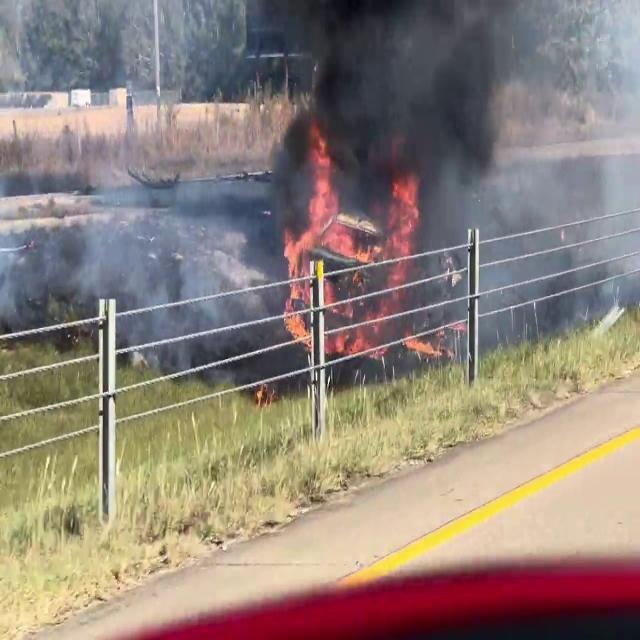Fire: (283, 120, 358, 350)
Smoke: (435, 40, 638, 308), (284, 0, 524, 202), (3, 141, 238, 328)
